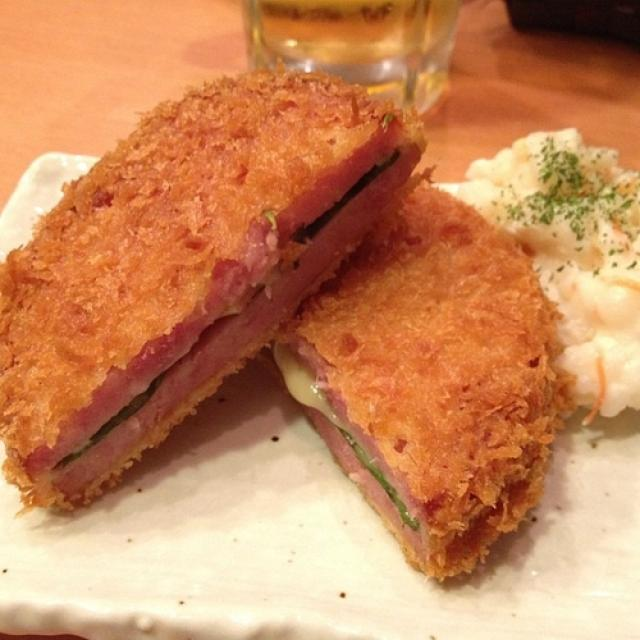炸货点心: (1, 44, 595, 610)
